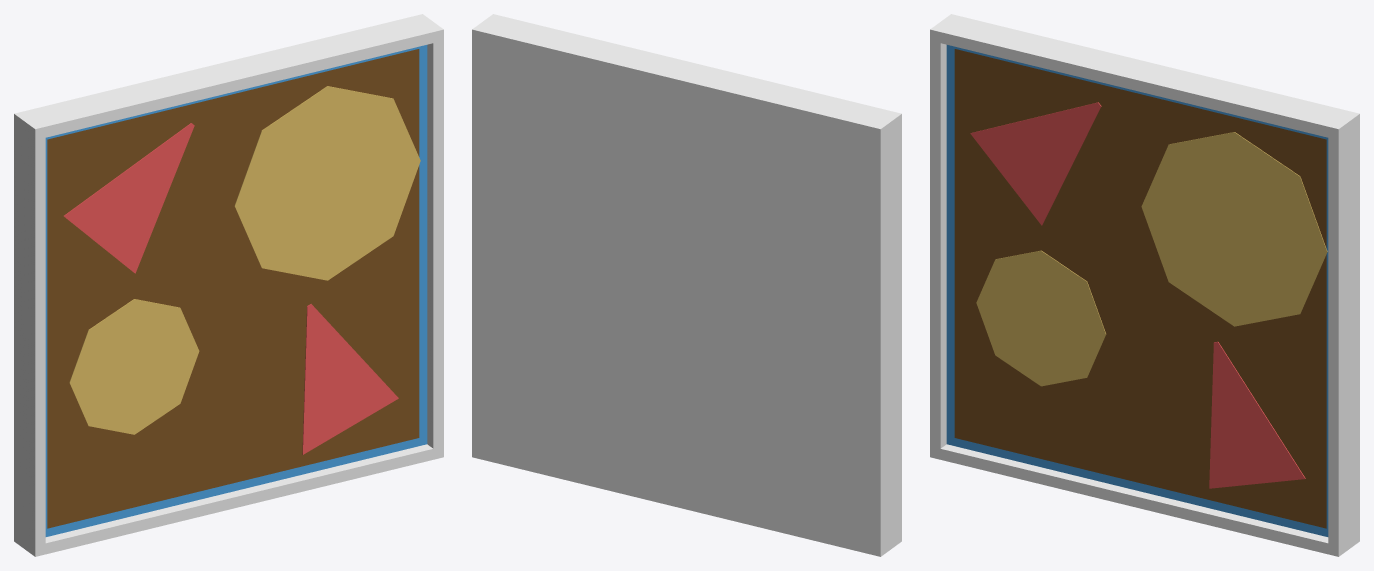
Rendered from Picture Frame_20.fbx.
3 renders of one model, left to right at view 1: azimuth 30°, elevation 25°; view 2: azimuth 150°, elevation 25°; view 3: azimuth 330°, elevation 25°, orthographic.
Parts seen in each view (by area): view 1: Picture Frame_20; view 2: Picture Frame_20; view 3: Picture Frame_20.
Part boxes in pixels (<box>): Picture Frame_20: <box>14,14,443,556</box>; Picture Frame_20: <box>472,14,901,556</box>; Picture Frame_20: <box>930,14,1359,556</box>.
Size of the model in its own units: 0.4279 by 0.4279 by 0.0385.
